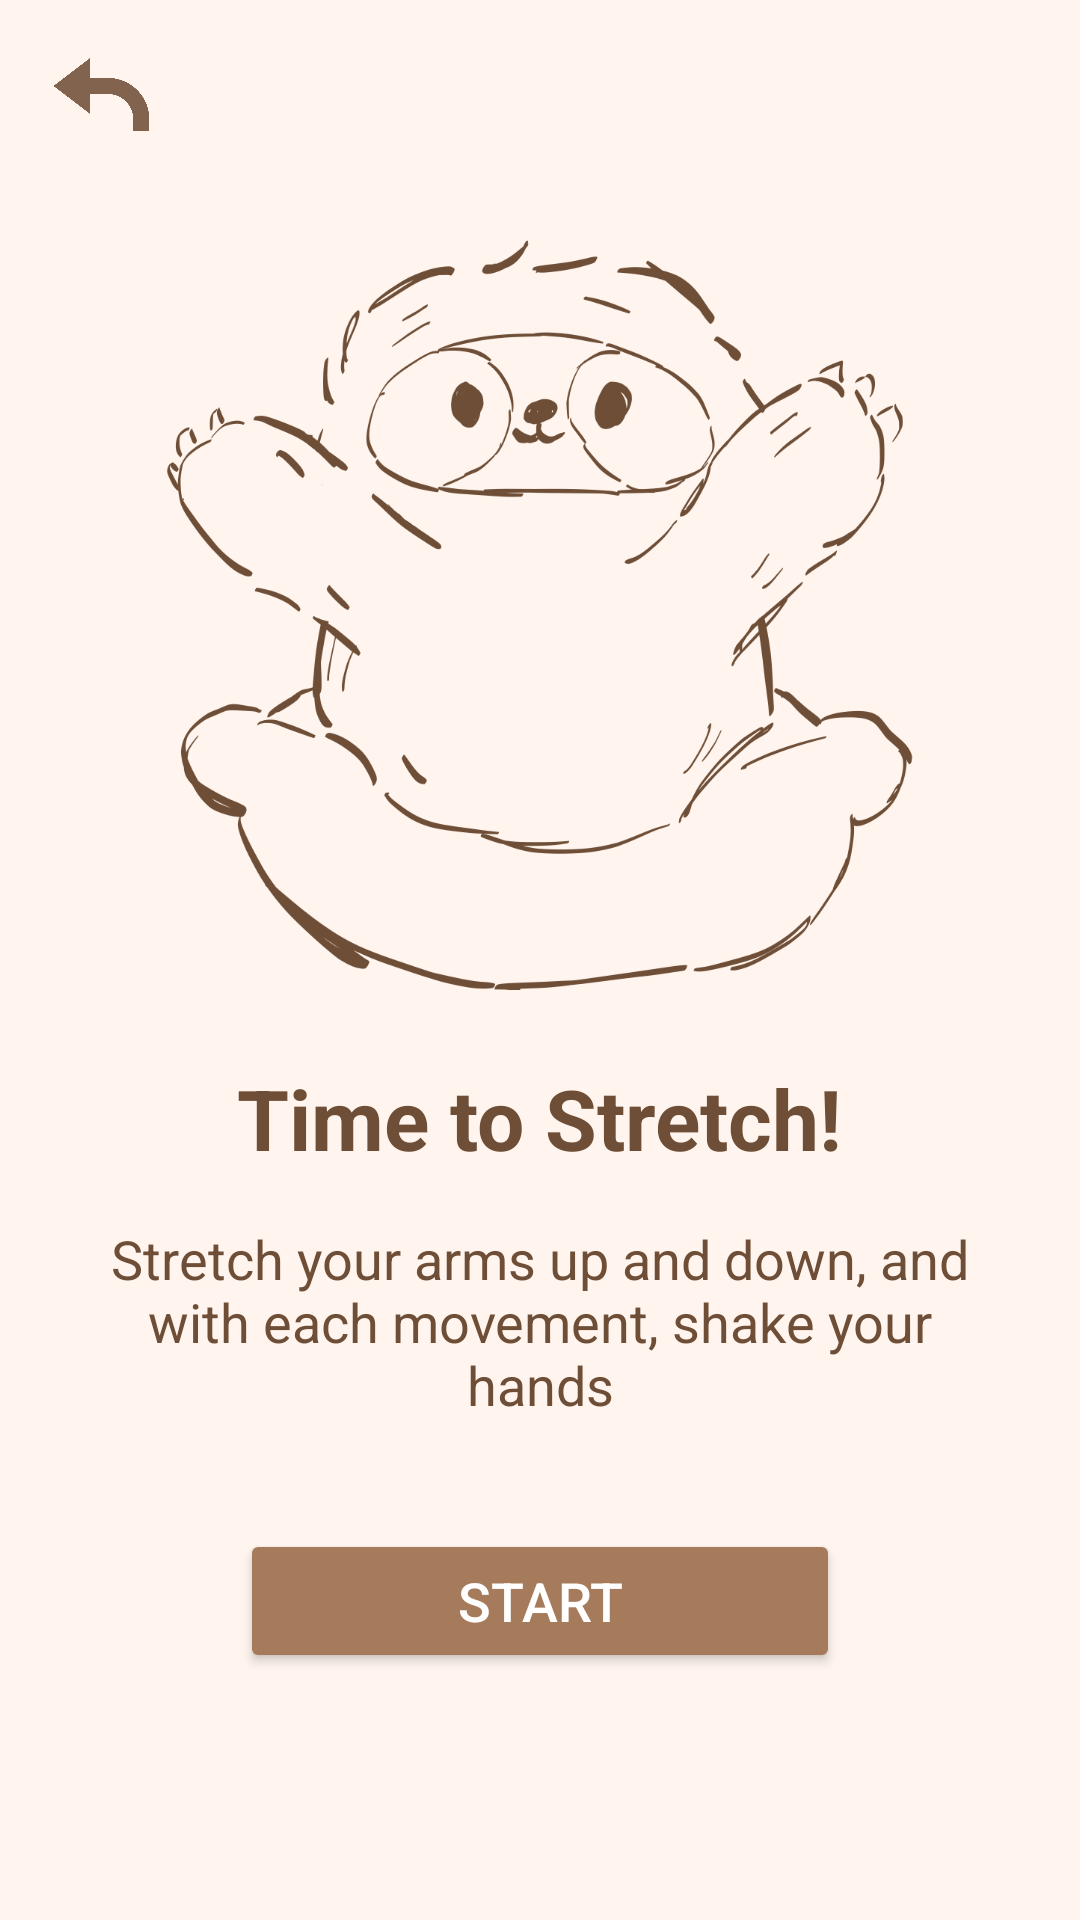

Icons on this 1080 × 1920 Android screen, each with the point to tap as (x=x, y=y):
back arrow: (x=101, y=94)
